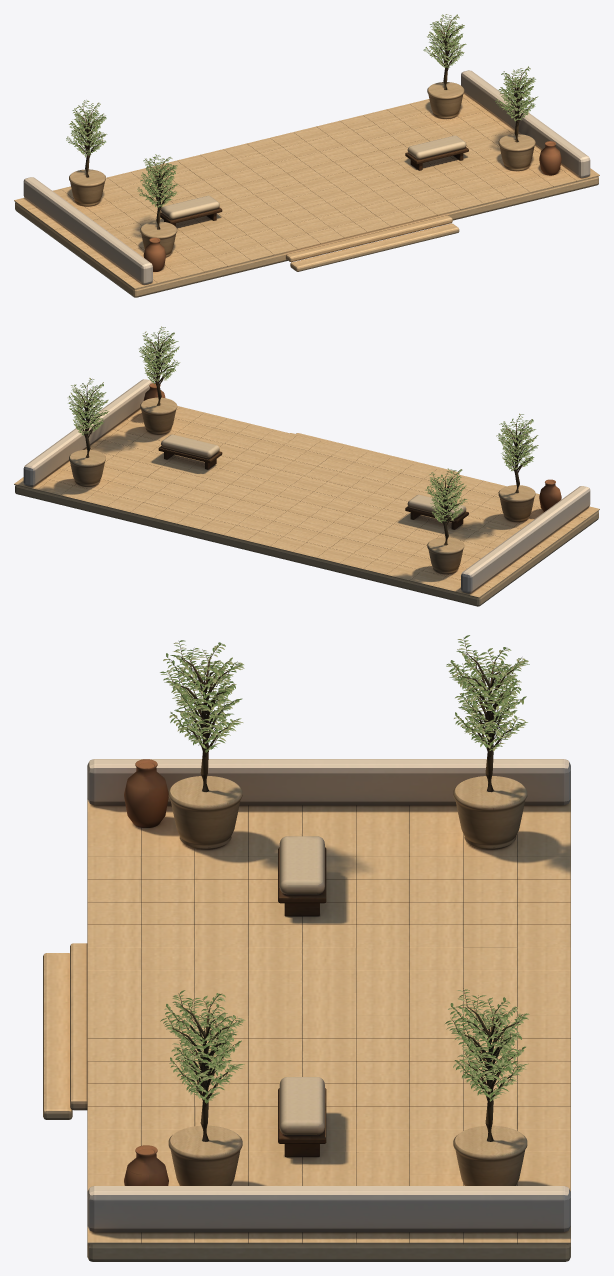
File: outside-baked.glb
3 views of the same model, one above another, from view 1: azimuth 30°, elevation 25°; view 2: azimuth 150°, elevation 25°; view 3: azimuth 270°, elevation 25° (orthographic). The views are drawn at different scales.
Parts seen in each view (by area): view 1: BAKED outside shell, BAKED outside furniture, Architecture · Olive leaves 0, Architecture · Olive leaves 1, Architecture · Olive leaves 2; view 2: BAKED outside shell, BAKED outside furniture, Architecture · Olive leaves 0, Architecture · Olive leaves 2, Architecture · Olive leaves 1; view 3: BAKED outside shell, BAKED outside furniture, Architecture · Olive leaves 2, Architecture · Olive leaves 0, Architecture · Olive leaves 1.
Part boxes in pixels (bbox=[...]): BAKED outside shell: bbox=[14, 70, 599, 297]; BAKED outside furniture: bbox=[69, 17, 561, 271]; Architecture · Olive leaves 0: bbox=[66, 16, 535, 207]; Architecture · Olive leaves 1: bbox=[66, 14, 538, 207]; Architecture · Olive leaves 2: bbox=[68, 14, 535, 206]; BAKED outside shell: bbox=[14, 379, 599, 606]; BAKED outside furniture: bbox=[69, 327, 561, 573]; Architecture · Olive leaves 0: bbox=[68, 327, 537, 522]; Architecture · Olive leaves 2: bbox=[67, 326, 538, 521]; Architecture · Olive leaves 1: bbox=[68, 328, 538, 521]; BAKED outside shell: bbox=[43, 759, 570, 1261]; BAKED outside furniture: bbox=[124, 639, 527, 1185]; Architecture · Olive leaves 2: bbox=[163, 639, 529, 1100]; Architecture · Olive leaves 0: bbox=[160, 635, 529, 1103]; Architecture · Olive leaves 1: bbox=[161, 640, 529, 1102].
Bounding box in the file's own units: 20 × 4.54 × 9.82.
5 materials, 2 textured.
